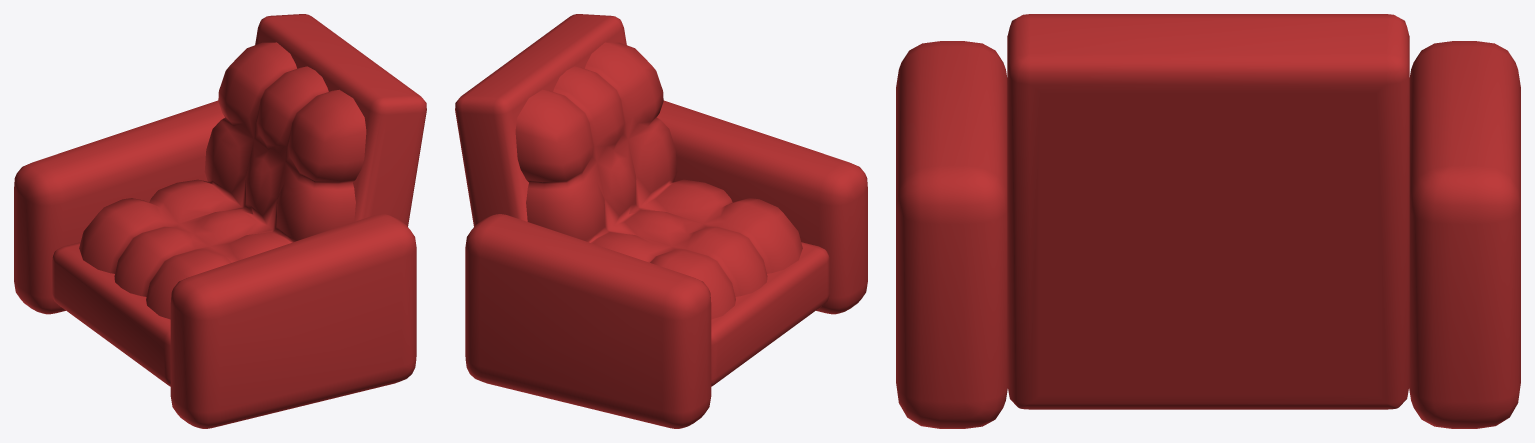
File: Armchair.FBX
3 renders of one model, left to right at view 1: azimuth 30°, elevation 25°; view 2: azimuth 150°, elevation 25°; view 3: azimuth 270°, elevation 25°, orthographic. The views are drawn at different scales.
Visible parts, largest first — view 1: Armchair; view 2: Armchair; view 3: Armchair.
Boxes of the visible parts, <box> form: Armchair: <box>14,14,426,428</box>; Armchair: <box>455,14,867,428</box>; Armchair: <box>896,14,1520,428</box>.
Bounding box in the file's own units: 23.19 × 21.25 × 28.52.
